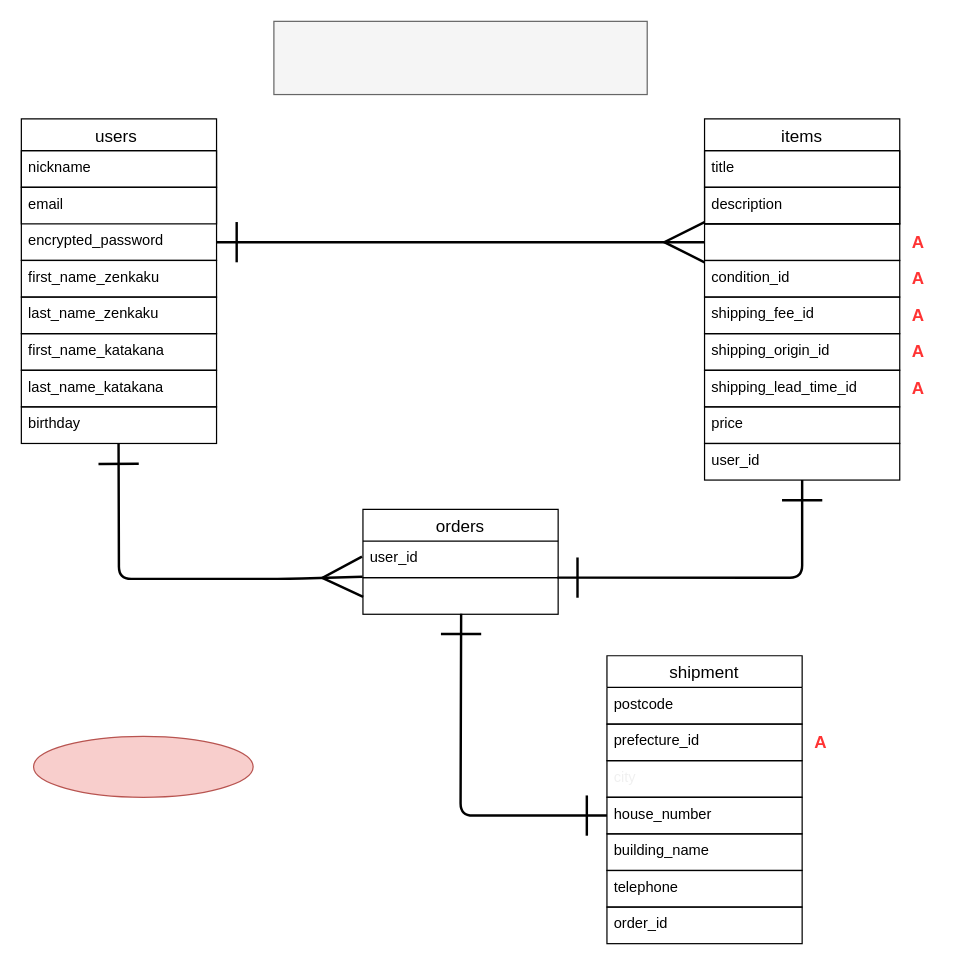
The diagram is 958 pixels wide and 969 high, and some of its shapes have lost their labels. Here are the shapes that lost their labels. From the top down, the centre of each, then its label:
(x=460, y=57): FURIMA-40203 Entity-Relationship Diagram
(x=801, y=241): category_id
(x=460, y=595): item_id
(x=142, y=766): ### A means "active_hash" ###
